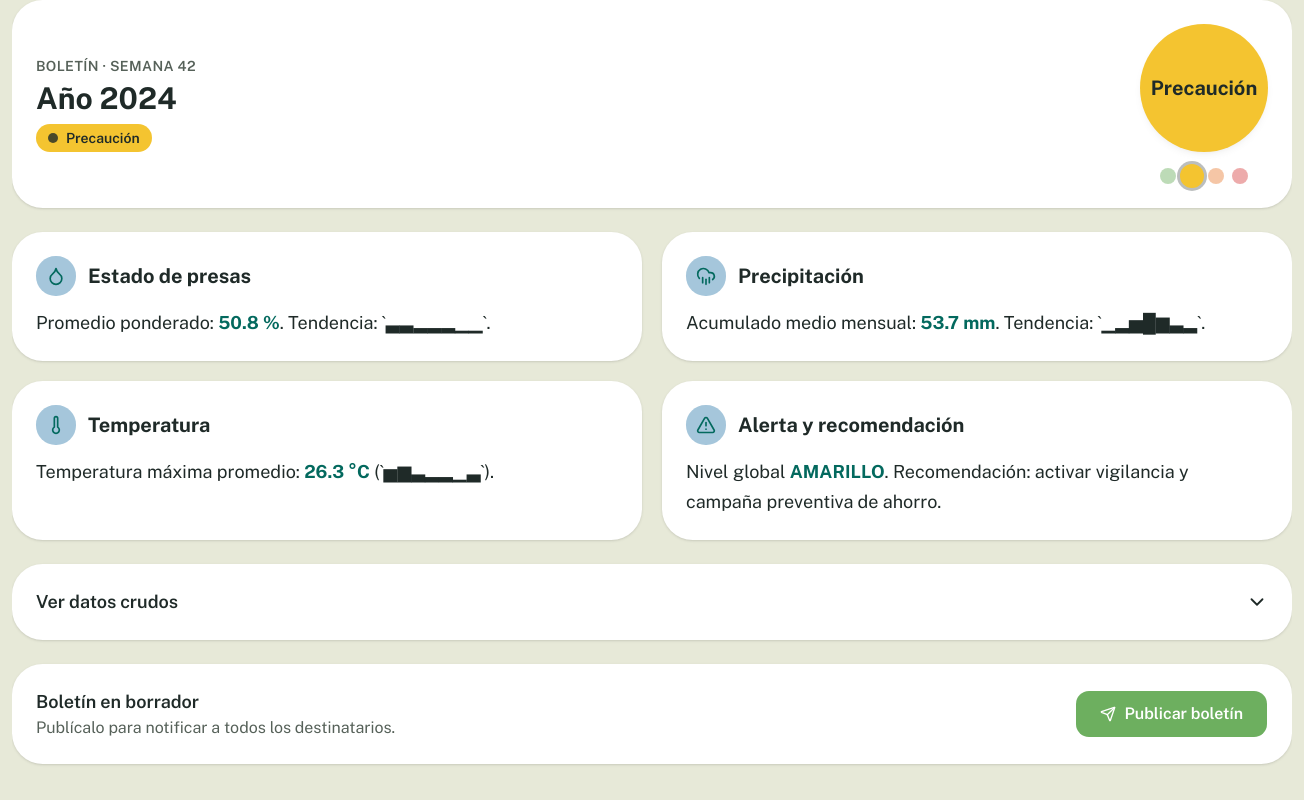
BoletinView (contrato real: markdown + hallazgos) › con showPublish, el botón publica y refleja boletin.publicado
Expected: the text "Boletín en borrador" is shown, [36,691,199,712]
Click the button "Publicar boletín": (1172, 714) [1075,690,1268,738]
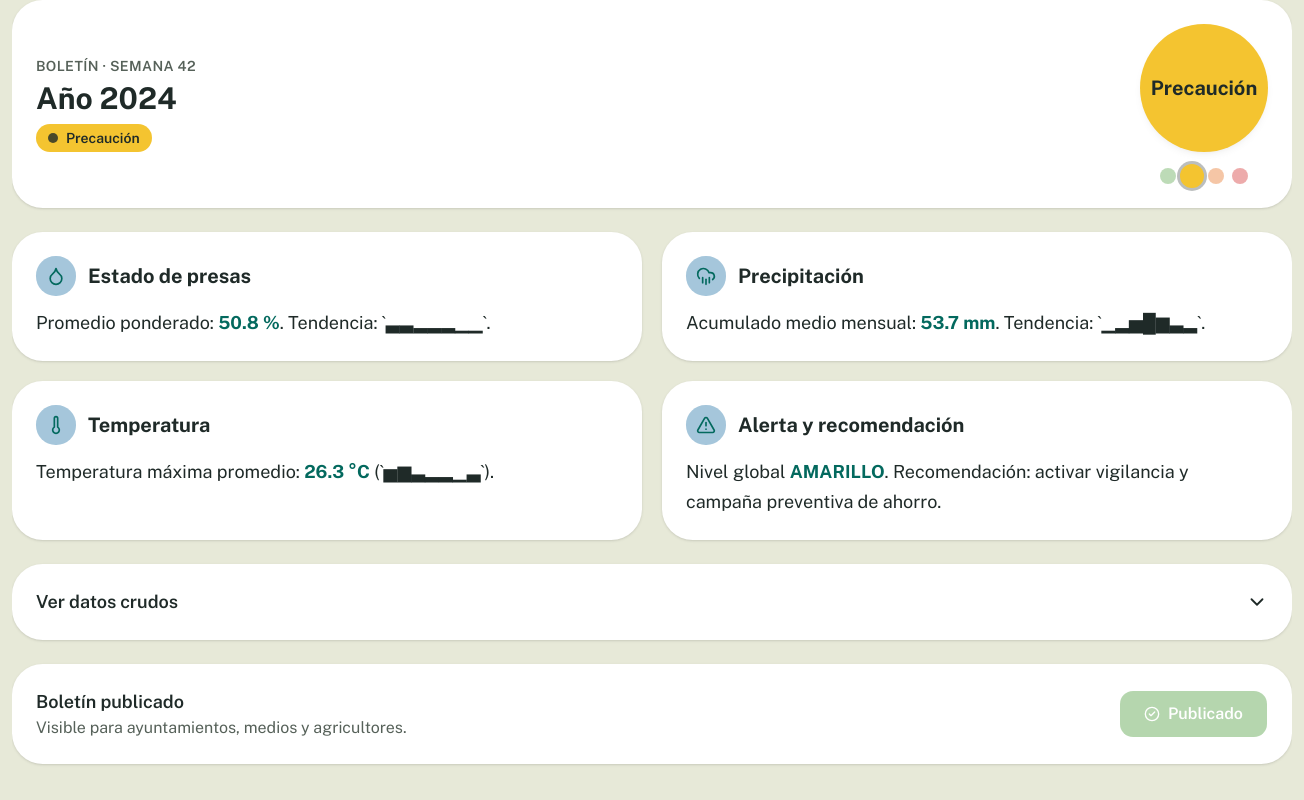
Result: the text "Boletín publicado" is shown at [36,691,184,712]
